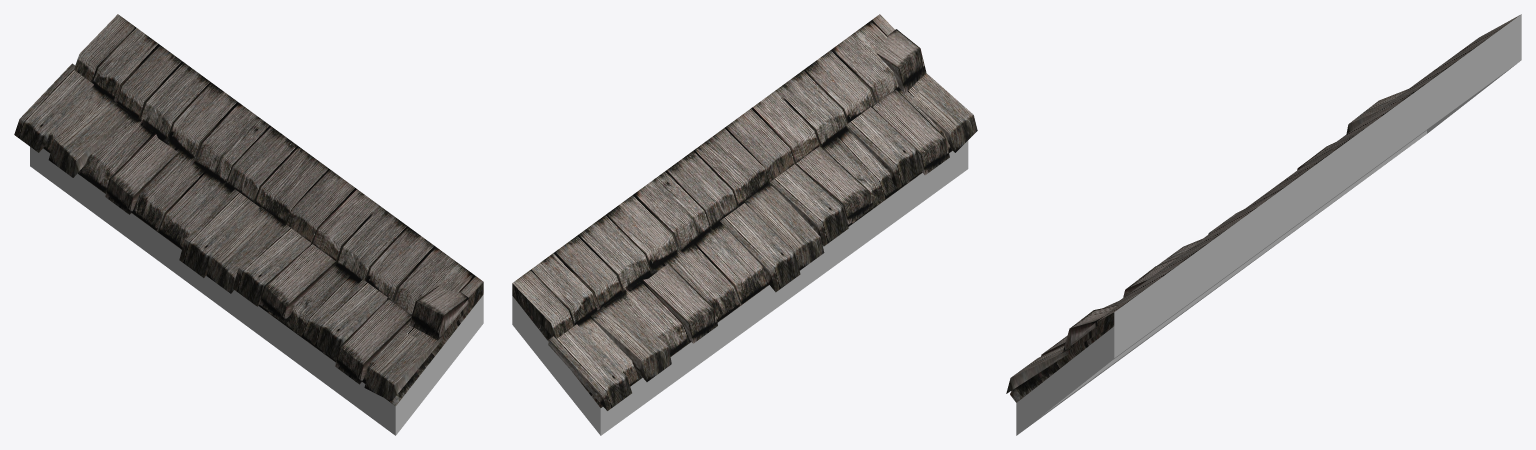
Rendered from RoofOverhang_45_mdl.fbx.
3 views of the same model, side by side, from view 1: azimuth 30°, elevation 25°; view 2: azimuth 150°, elevation 25°; view 3: azimuth 330°, elevation 25° (orthographic). The views are drawn at different scales.
Visible parts, largest first — view 1: RoofOverhang_45_mdl; view 2: RoofOverhang_45_mdl; view 3: RoofOverhang_45_mdl.
Boxes of the visible parts, x1,y1,x2,y2 form: RoofOverhang_45_mdl: [14, 14, 483, 435]; RoofOverhang_45_mdl: [512, 14, 977, 435]; RoofOverhang_45_mdl: [1006, 14, 1521, 435].
Size of the model in its own units: 64.18 by 80.03 by 408.
